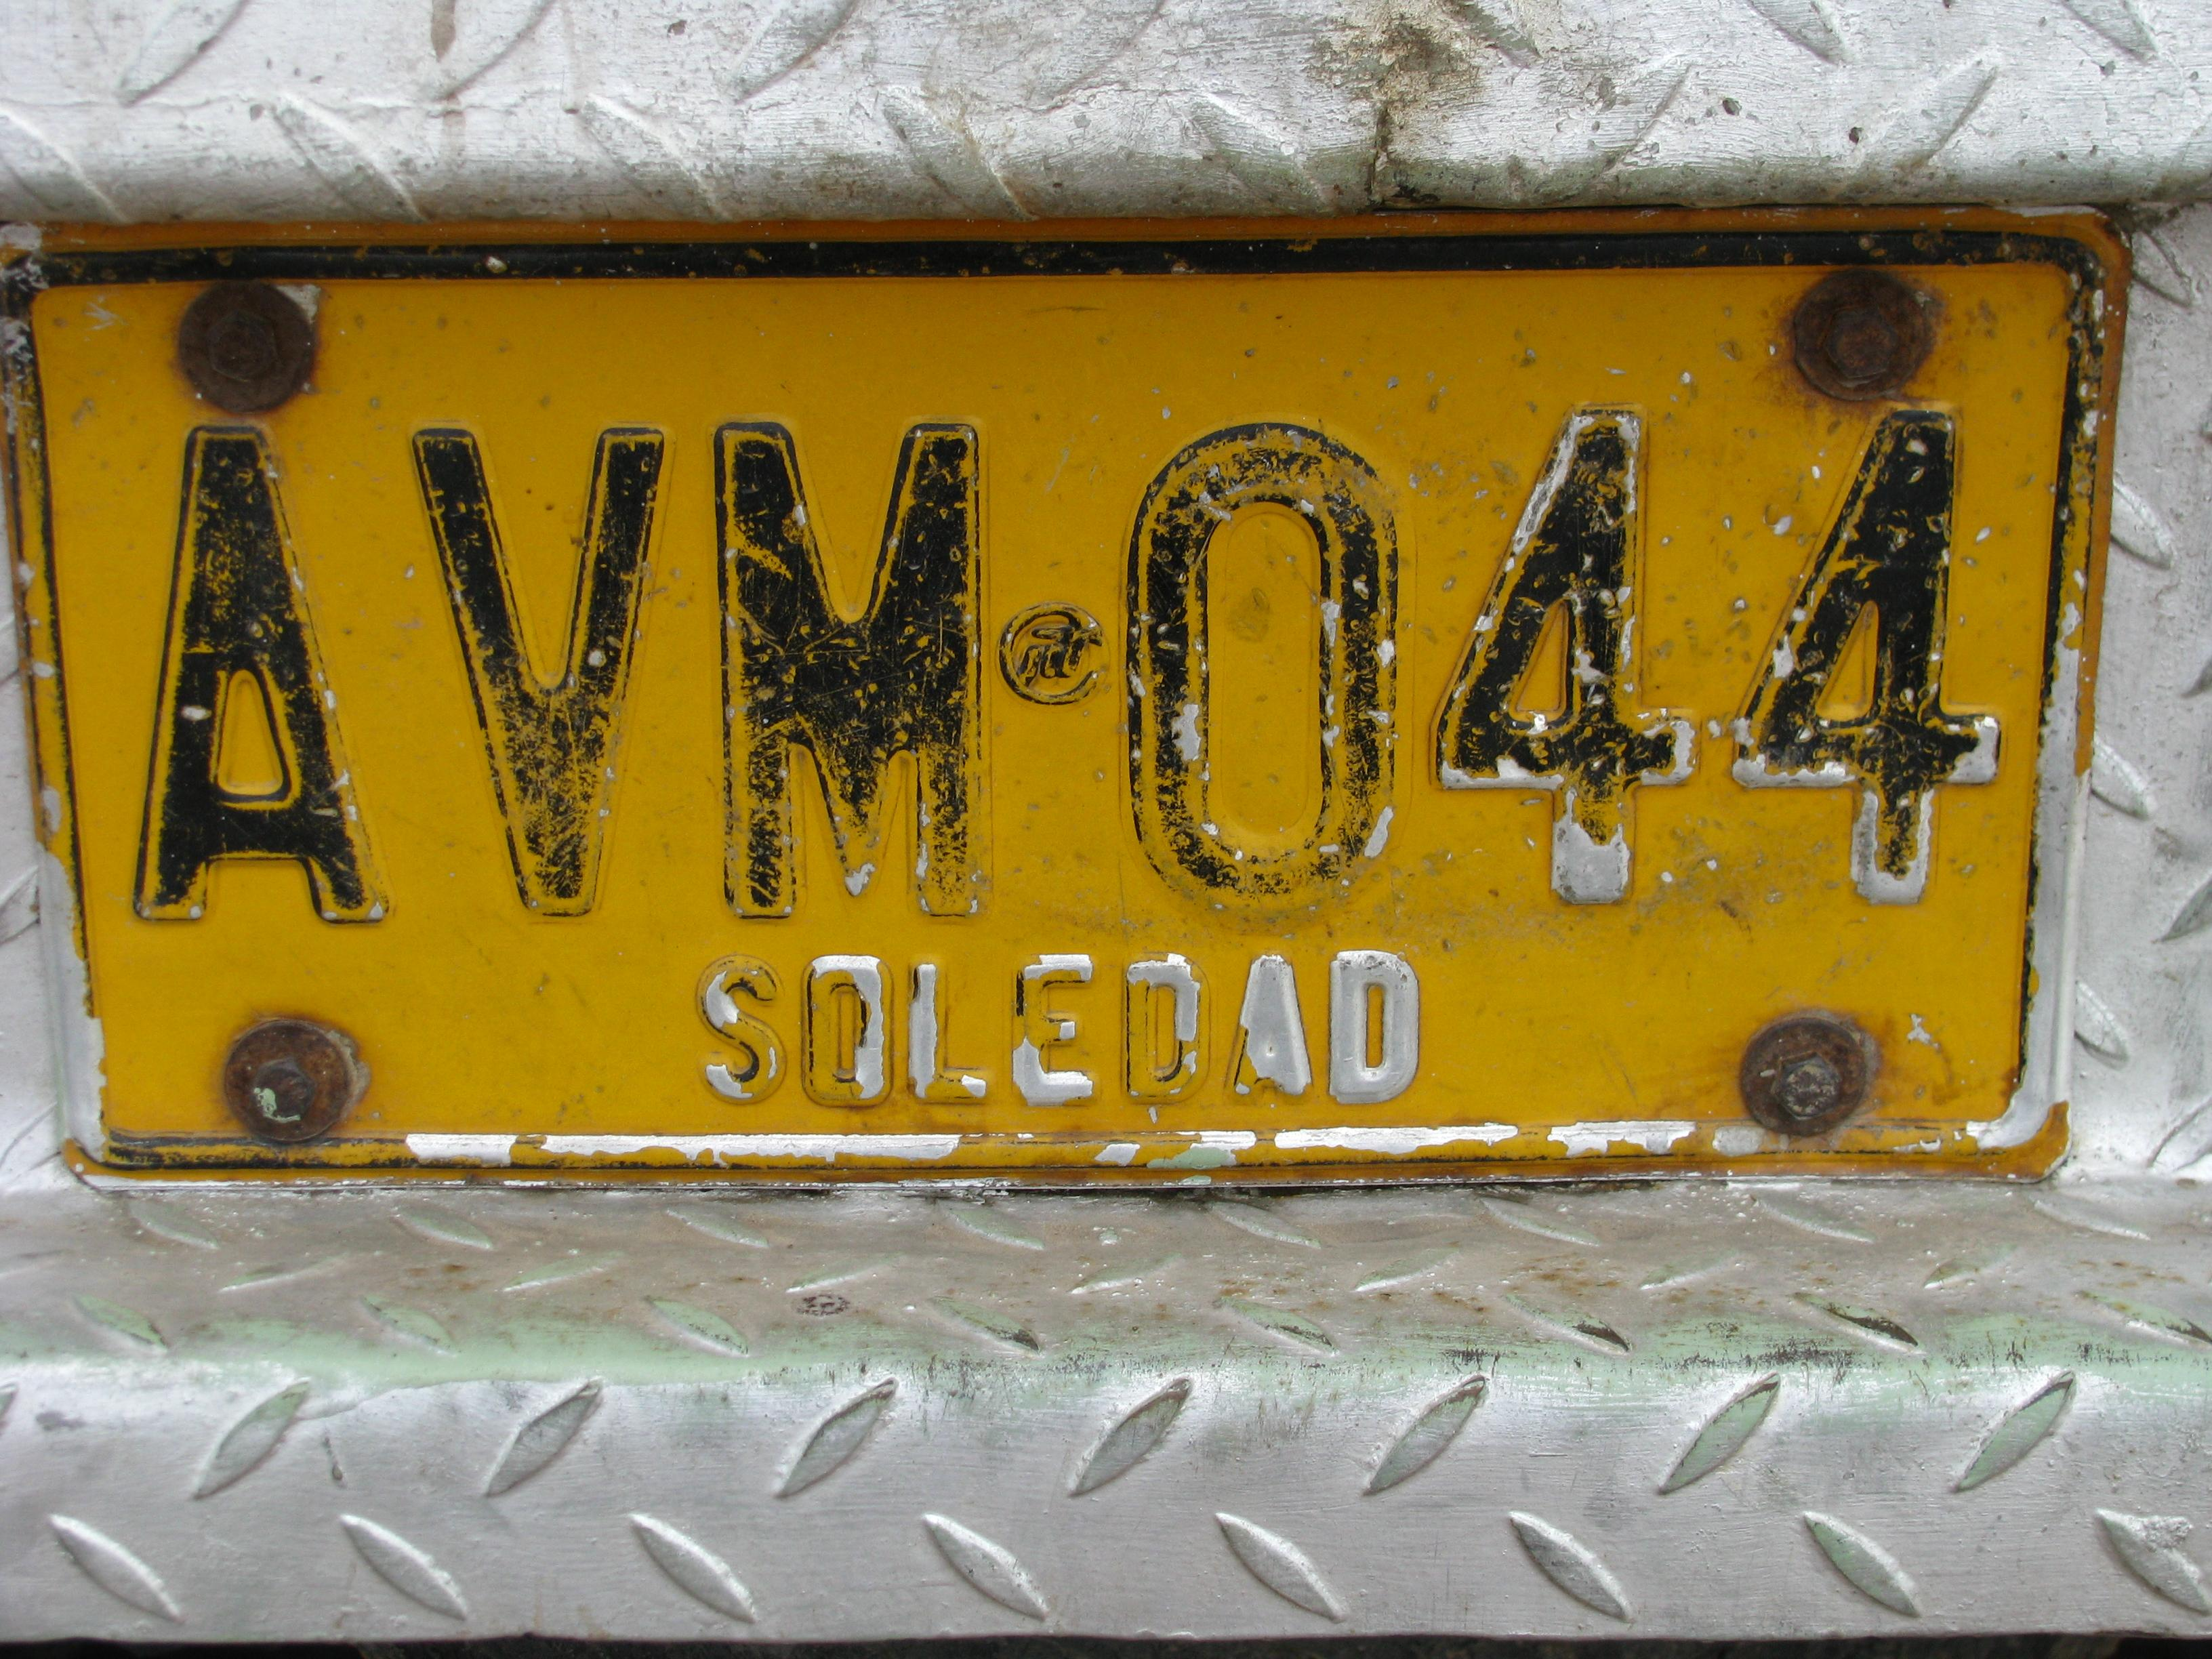placas: (3, 213, 2137, 1210)
